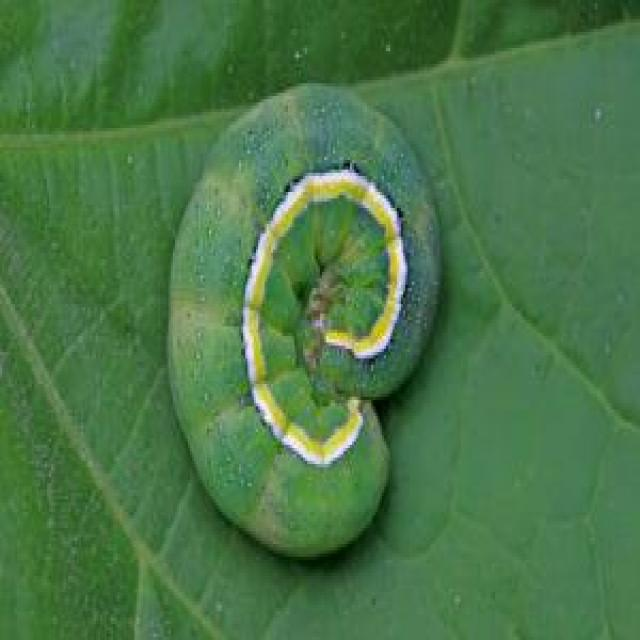armyworm: (155, 72, 443, 575)
